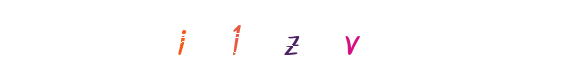1: (245, 0, 325, 80)
I: (172, 0, 252, 80)
V: (304, 0, 384, 80)
Z: (252, 0, 332, 80)
